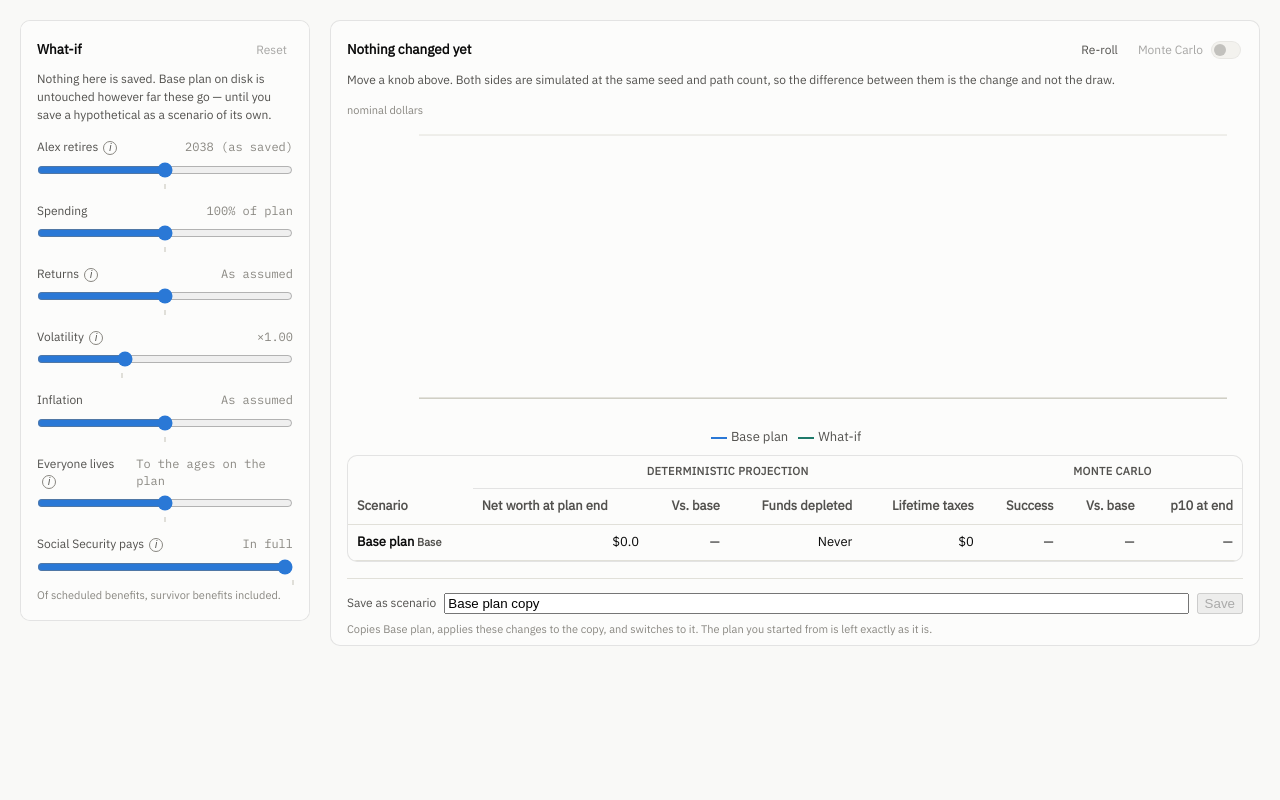
Test: the sandbox never writes › puts the Social Security knob back at rest on the saved figure
This screenshot has width=1280, height=800.
Set the slider labelled "Social Security pays" to "0.8" at (189, 567), box [37,559,293,575]
Wait 500 ms
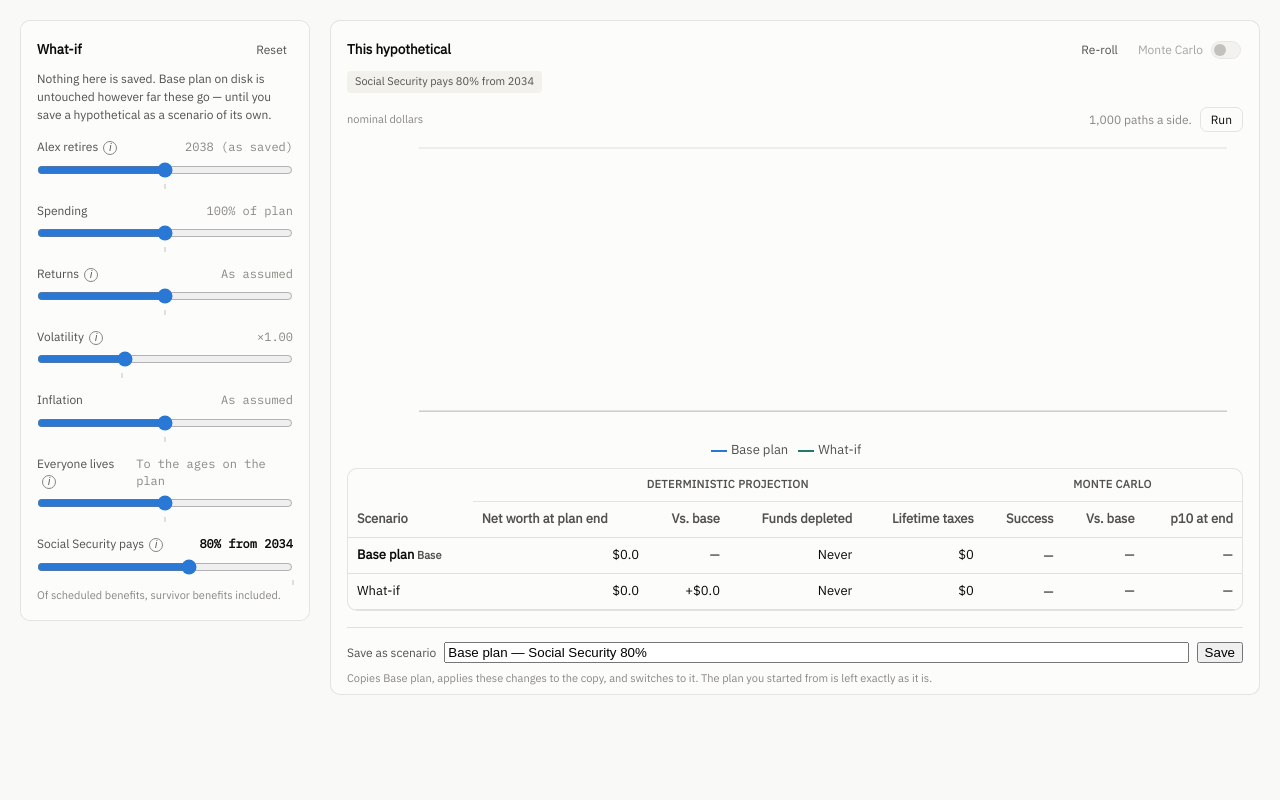
Expected: the text "80% from 2034" is shown, [199,535,293,553]
Set the slider labelled "Social Security pays" to "1" at (285, 567), box [37,559,293,575]
Wait 500 ms
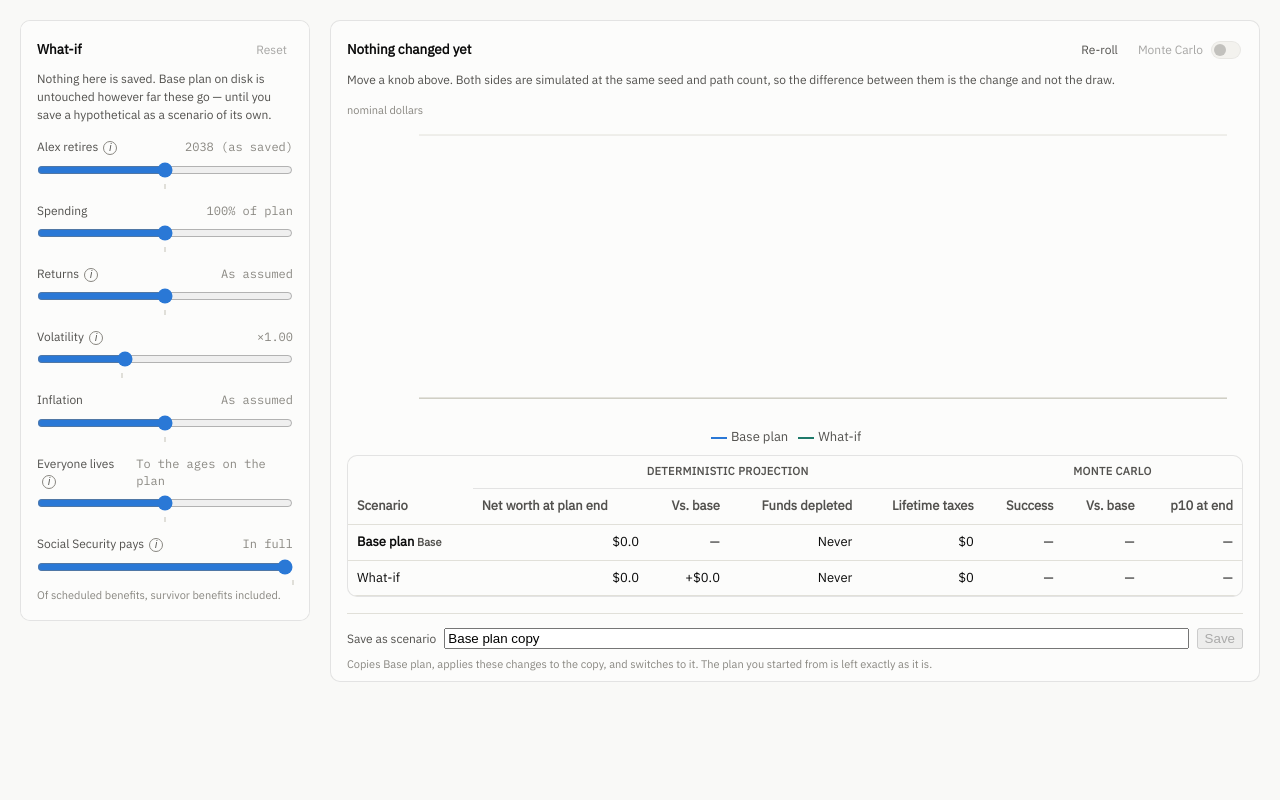
Expected: the text "In full" is shown, [243,535,293,553]
Expected: the button "Reset" is disabled, [250,37,293,62]
